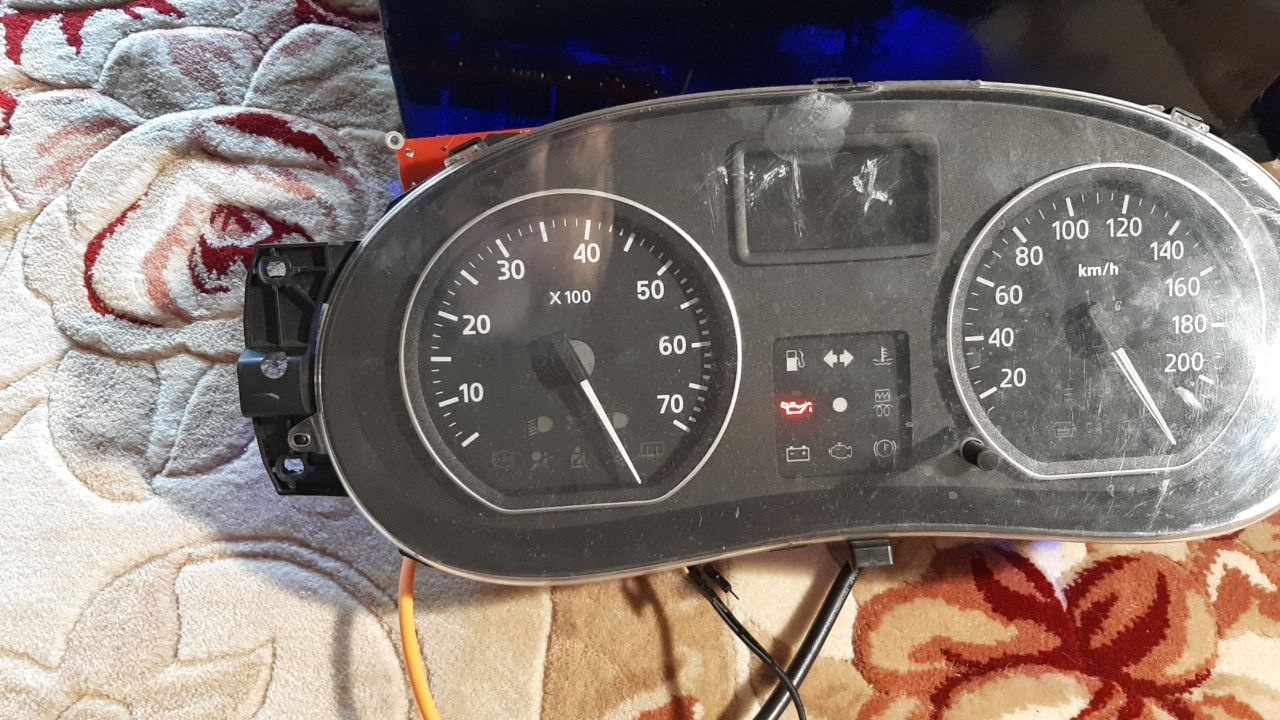oil: (779, 398, 811, 416)
